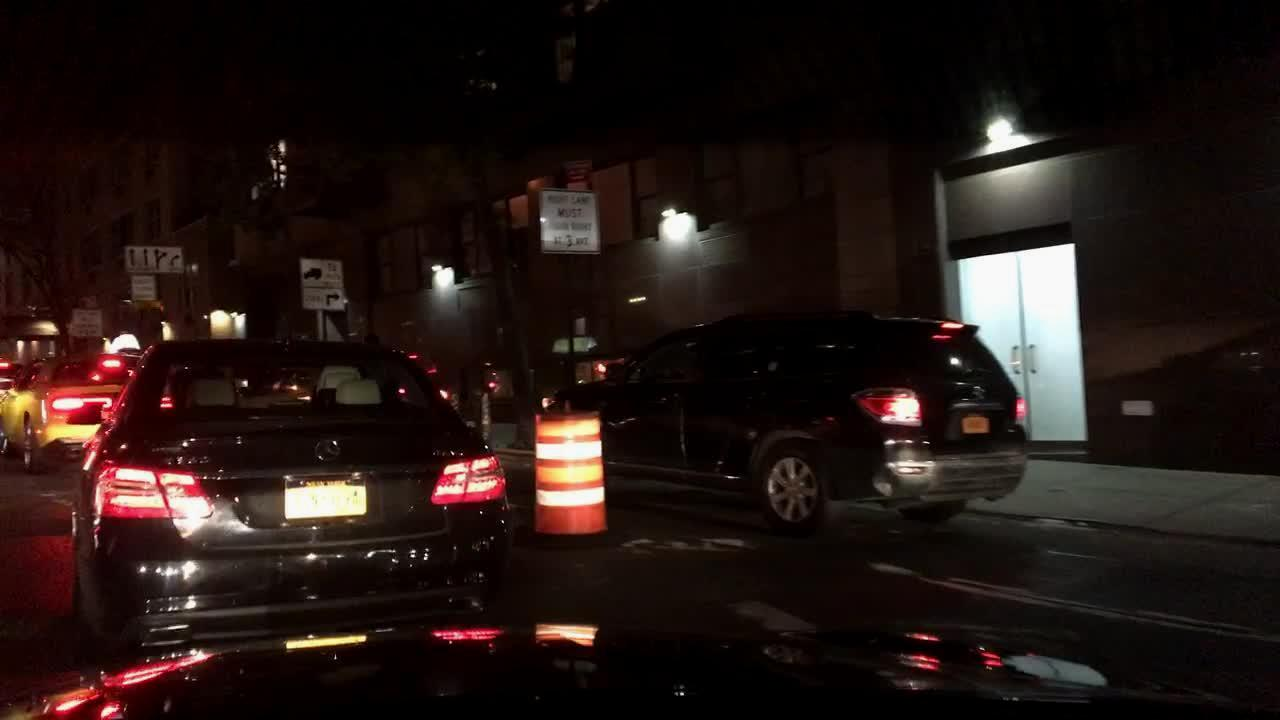Mercedes: (309, 432, 345, 467)
